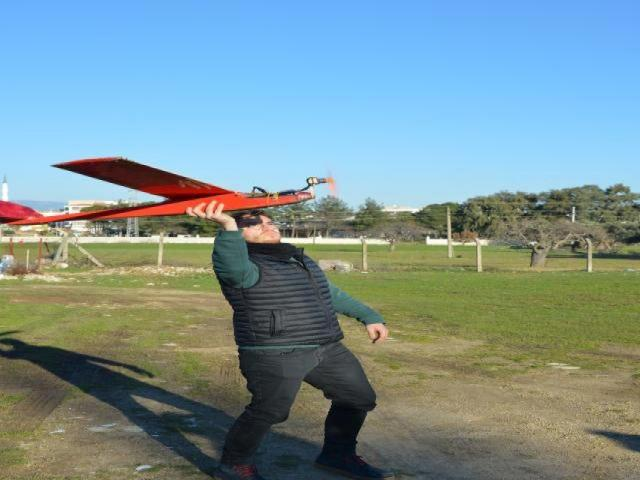iha: (1, 133, 341, 249)
